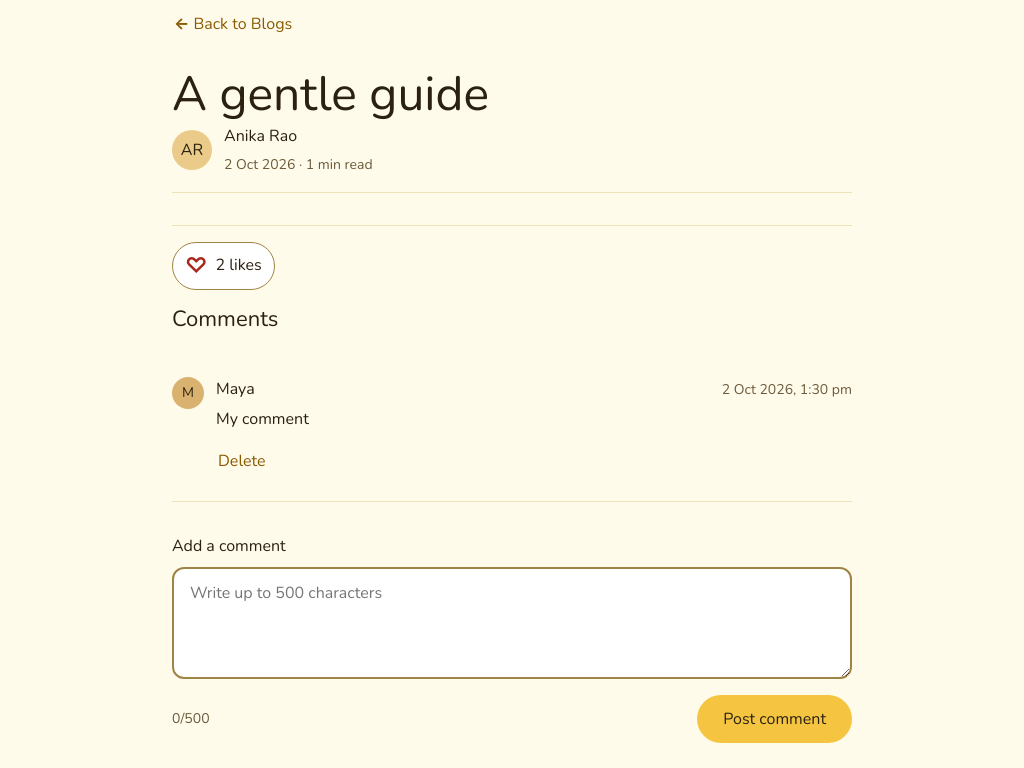
Test case: Blogs › asks before deleting a user comment
Check: the text "My comment" is shown, box [216,408,309,430]
Click the button "Delete".
click(242, 461)  # box [216,437,268,485]
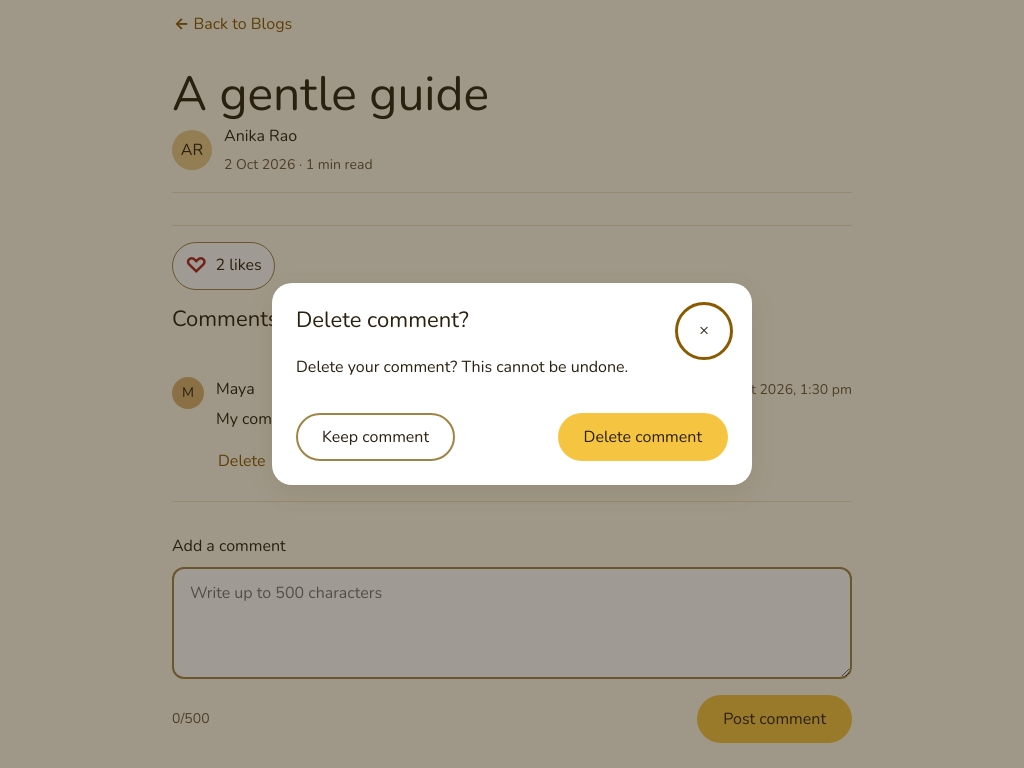
Click the button "Delete comment".
click(643, 437)  # box [558,413,728,461]
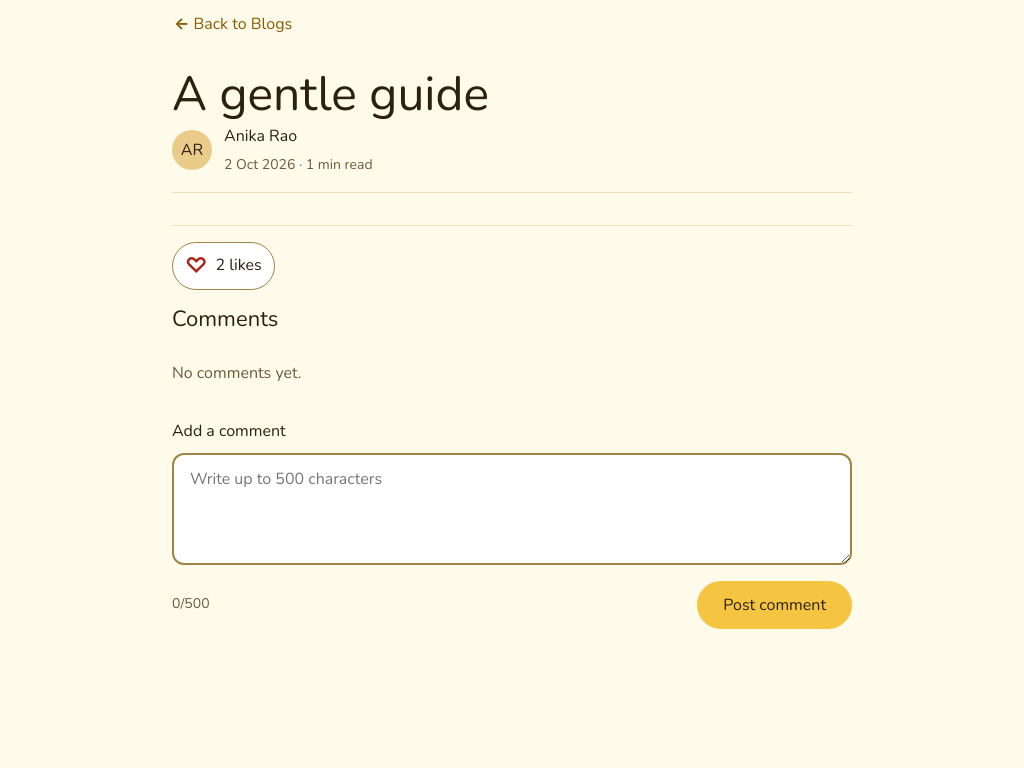
Check: the text "My comment" is gone
